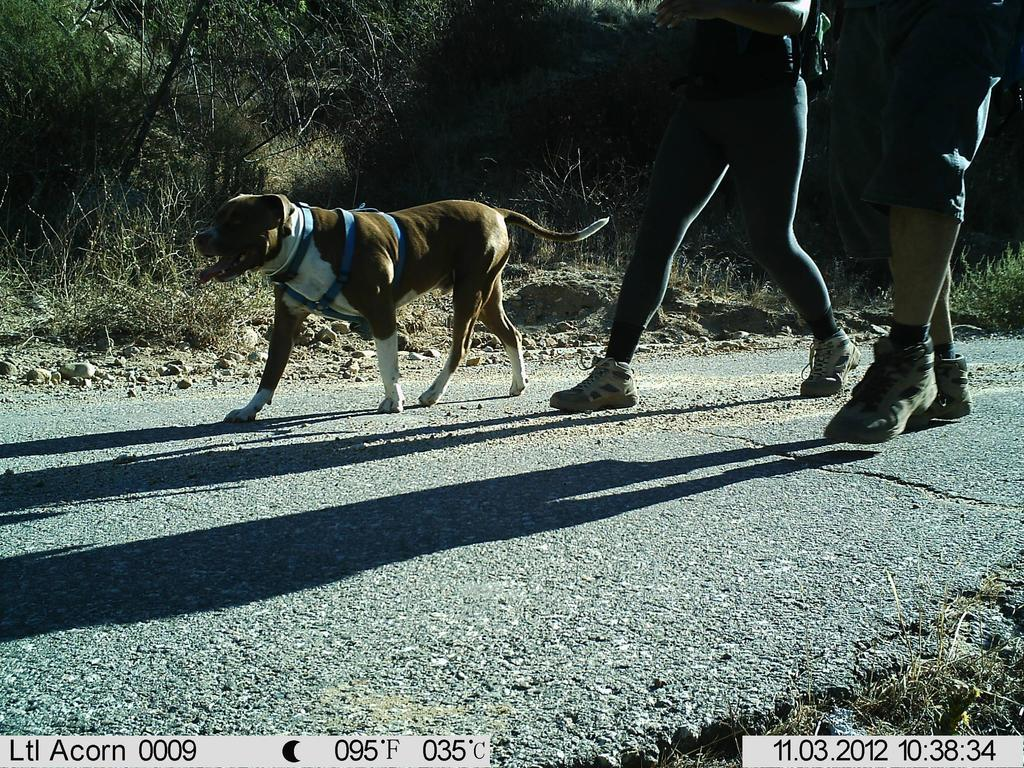dog: (193, 189, 617, 428)
